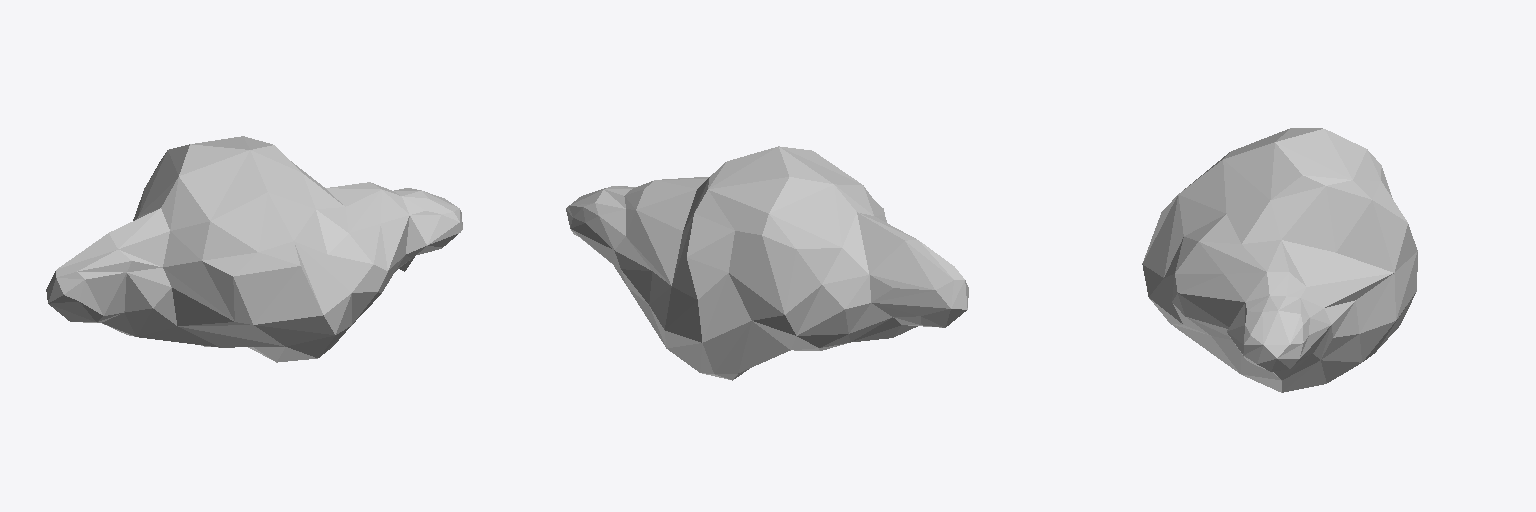
The model's file is SM_Generic_Cloud_05.obj.
3 renders of one model, left to right at view 1: azimuth 30°, elevation 25°; view 2: azimuth 150°, elevation 25°; view 3: azimuth 270°, elevation 25°, orthographic.
Size of the model in its own units: 318 by 164 by 186.